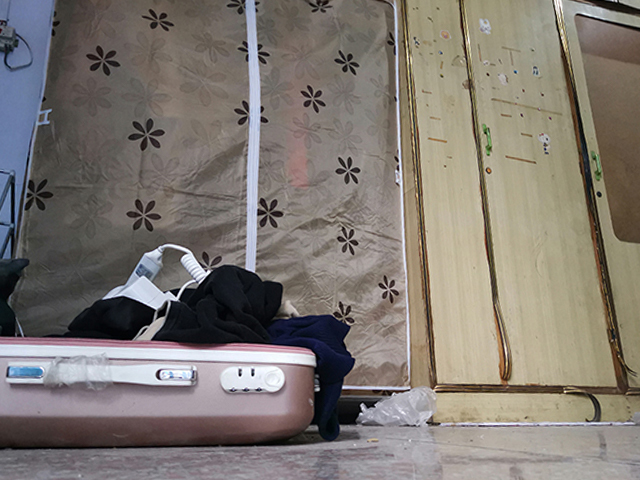cabinet: (394, 1, 640, 429)
